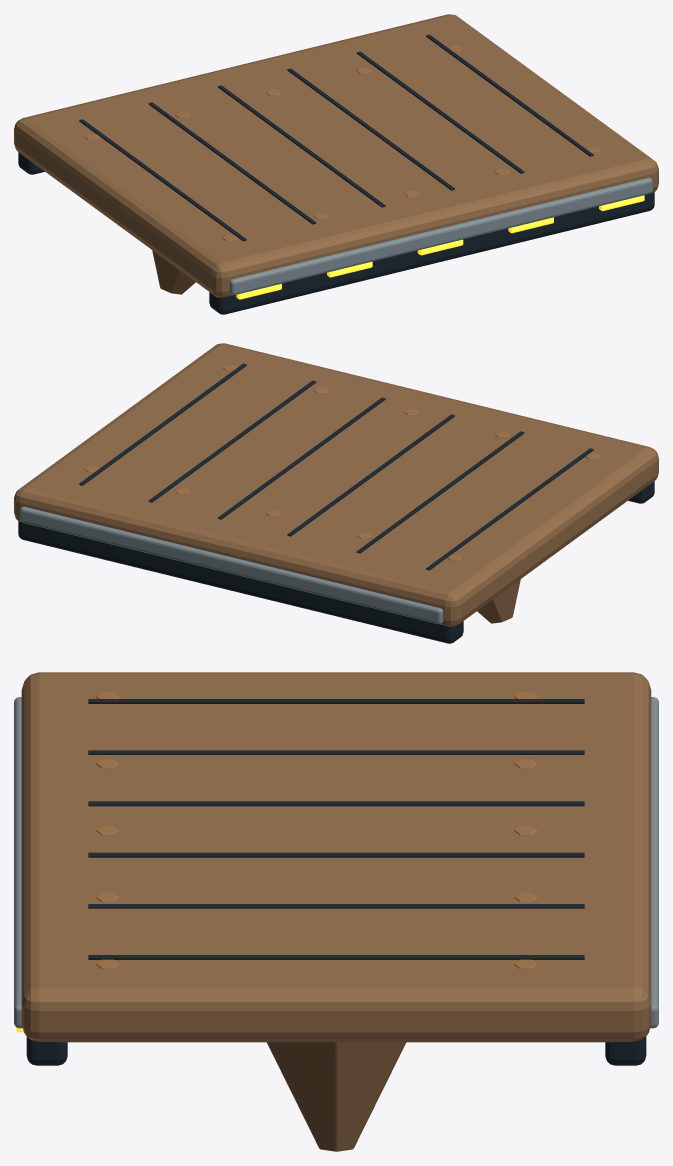
Rendered from traverse_ledge.glb.
3 renders of one model, top to bottom at view 1: azimuth 30°, elevation 25°; view 2: azimuth 150°, elevation 25°; view 3: azimuth 270°, elevation 25°, orthographic. The views are drawn at different scales.
Parts seen in each view (by area): view 1: traverse_ledge; view 2: traverse_ledge; view 3: traverse_ledge.
Boxes of the visible parts, left/top/right/bottom form: traverse_ledge: left=14, top=14, right=658, bottom=314; traverse_ledge: left=14, top=343, right=658, bottom=643; traverse_ledge: left=14, top=672, right=658, bottom=1151.
Size of the model in its own units: 3.98 by 1.13 by 3.3.
